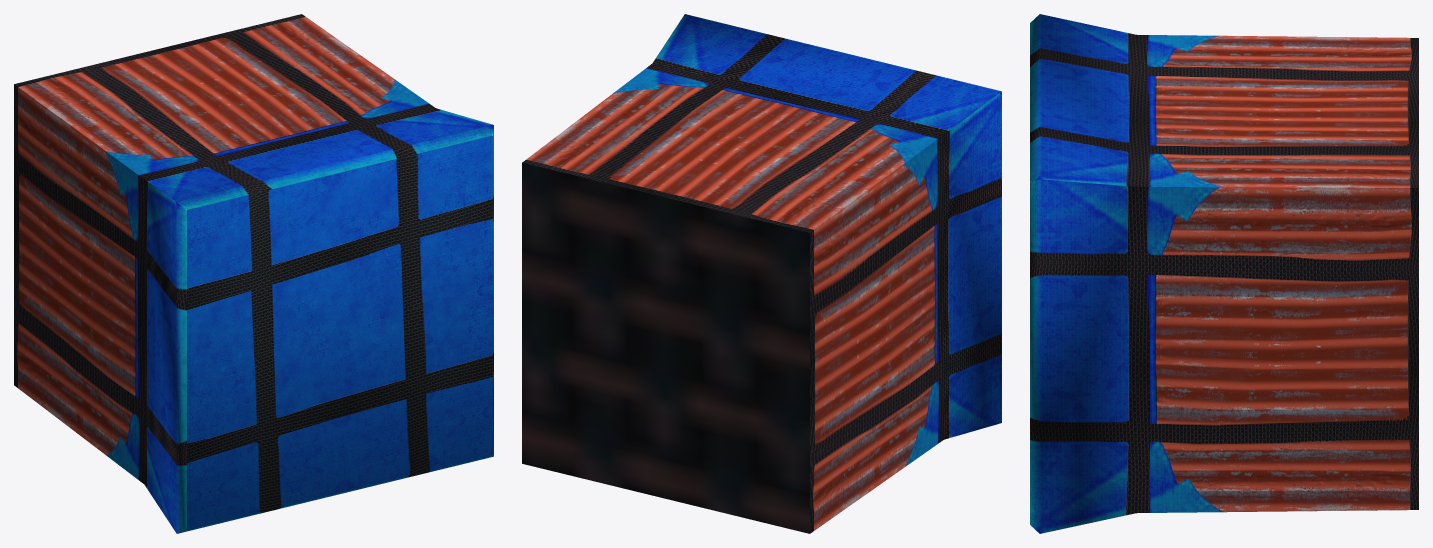
Rendered from PUBGBox.obj.
The picture shows the model from 3 angles, left to right: view 1: azimuth 30°, elevation 25°; view 2: azimuth 150°, elevation 25°; view 3: azimuth 270°, elevation 25°; orthographic projection. The views are drawn at different scales.
Visible parts, largest first — view 1: PUBG_Box; view 2: PUBG_Box; view 3: PUBG_Box.
Part boxes in pixels (x1,y1,x2,y2): PUBG_Box: (14, 14, 493, 533); PUBG_Box: (522, 14, 1001, 533); PUBG_Box: (1030, 14, 1418, 533).
Bounding box in the file's own units: 2 × 2 × 1.99.
Materials: 1 (1 with a texture image).
